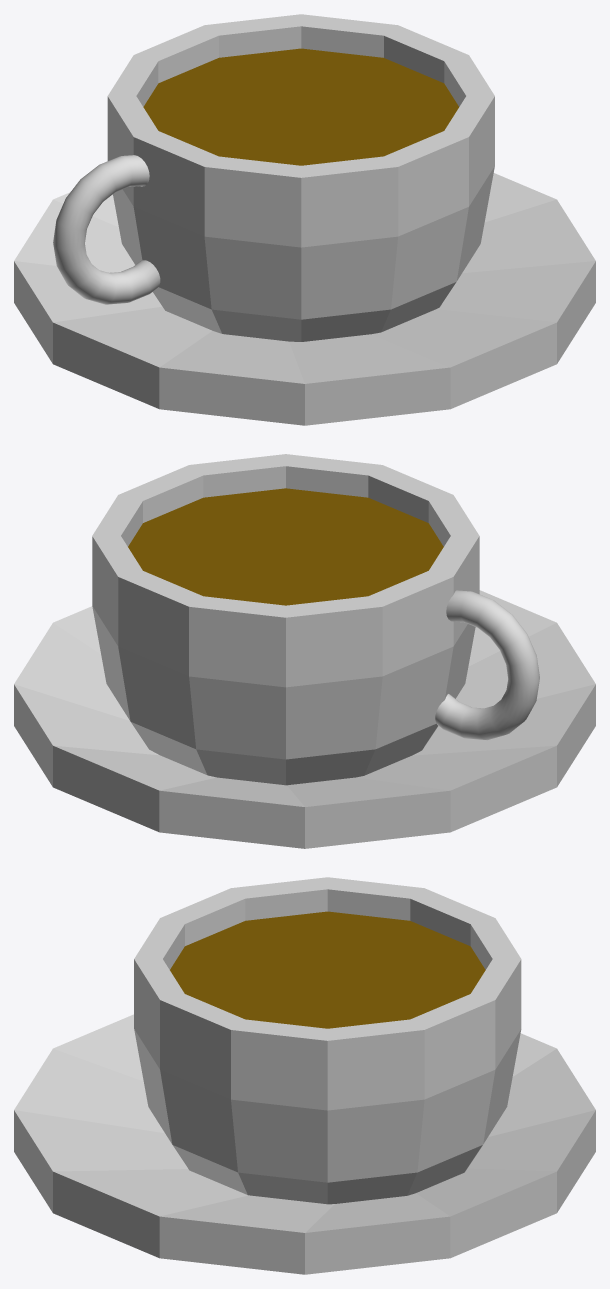
Rendered from coffee.fbx.
3 renders of one model, top to bottom at view 1: azimuth 30°, elevation 25°; view 2: azimuth 150°, elevation 25°; view 3: azimuth 270°, elevation 25°, orthographic.
Parts seen in each view (by area): view 1: pasted__cup1; view 2: pasted__cup1; view 3: pasted__cup1.
Boxes of the visible parts, bbox=[...] form: pasted__cup1: bbox=[14, 14, 595, 425]; pasted__cup1: bbox=[14, 454, 595, 848]; pasted__cup1: bbox=[14, 877, 595, 1274].
Bounding box in the file's own units: 1.81 × 0.7164 × 1.81.
